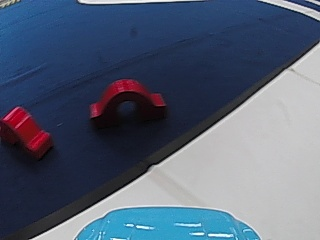bridge: (87, 74, 168, 128), (1, 104, 56, 161)
